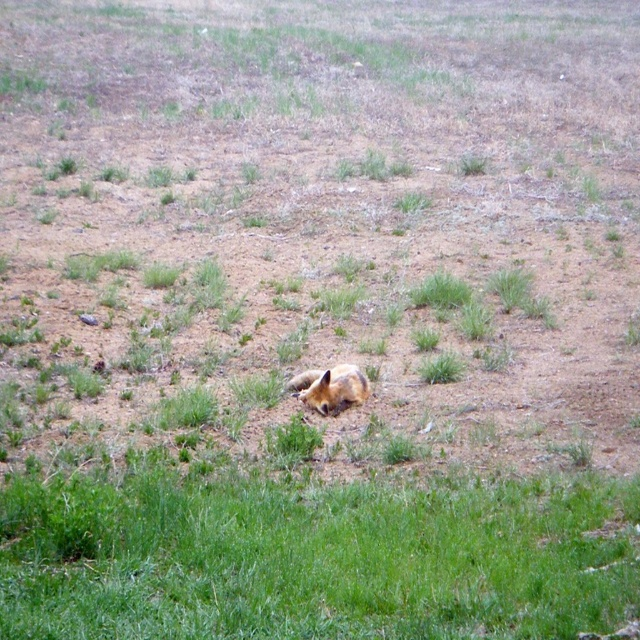Fox: (283, 364, 373, 416)
